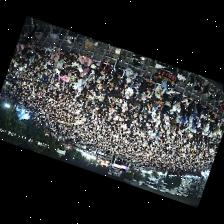person: (113, 54, 125, 79), (99, 58, 111, 75), (143, 78, 156, 93), (79, 54, 92, 68), (173, 95, 182, 115), (126, 67, 138, 81), (164, 88, 178, 100), (141, 81, 150, 99), (104, 69, 114, 85), (155, 84, 166, 97), (68, 51, 79, 64), (152, 92, 163, 105), (134, 97, 144, 111), (155, 99, 164, 114), (196, 102, 206, 115), (164, 100, 171, 118), (90, 60, 101, 71), (182, 96, 193, 107), (133, 74, 143, 86), (122, 76, 132, 88), (125, 84, 134, 97), (88, 68, 97, 81), (72, 57, 81, 70), (127, 93, 136, 106), (193, 105, 199, 124), (57, 59, 65, 73), (67, 66, 78, 76), (35, 45, 45, 56), (113, 79, 123, 90), (44, 45, 53, 57), (50, 54, 60, 64), (74, 80, 81, 94), (81, 74, 88, 87), (209, 110, 217, 121), (188, 101, 195, 113), (17, 42, 26, 51), (97, 73, 106, 82), (78, 67, 86, 77), (53, 46, 61, 55), (68, 74, 76, 83), (59, 75, 66, 85), (40, 57, 50, 64), (122, 100, 128, 111), (189, 113, 194, 126), (34, 54, 42, 61), (118, 87, 125, 95), (137, 92, 142, 103), (31, 41, 36, 52), (63, 61, 72, 67), (216, 114, 222, 123), (41, 56, 50, 60)
